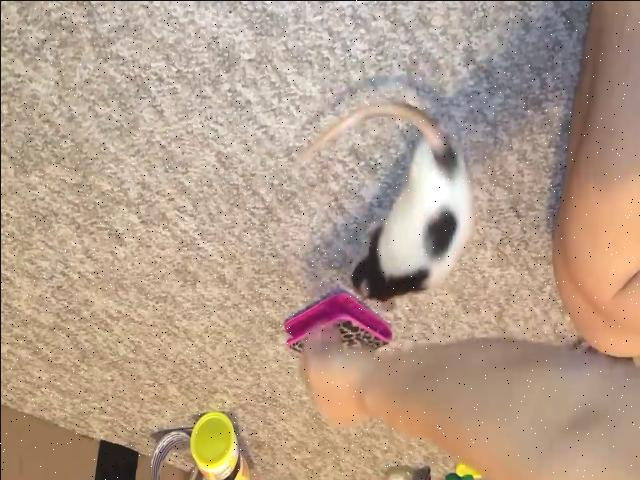Tikus: (293, 97, 475, 310)
